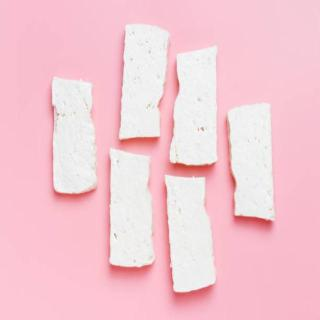Tahu: (163, 173, 223, 301), (50, 73, 104, 203), (107, 146, 159, 280), (120, 17, 172, 149), (229, 101, 283, 227), (172, 47, 224, 171)
